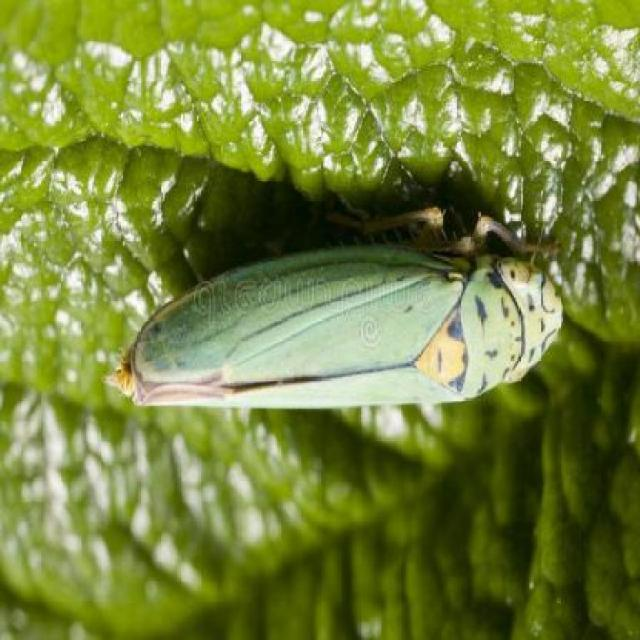green-leafhopper: (117, 238, 565, 420)
